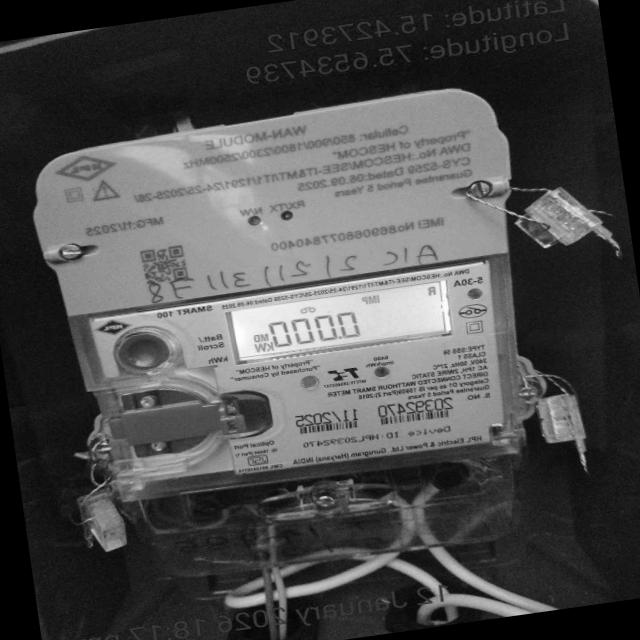meter: (27, 86, 540, 494)
